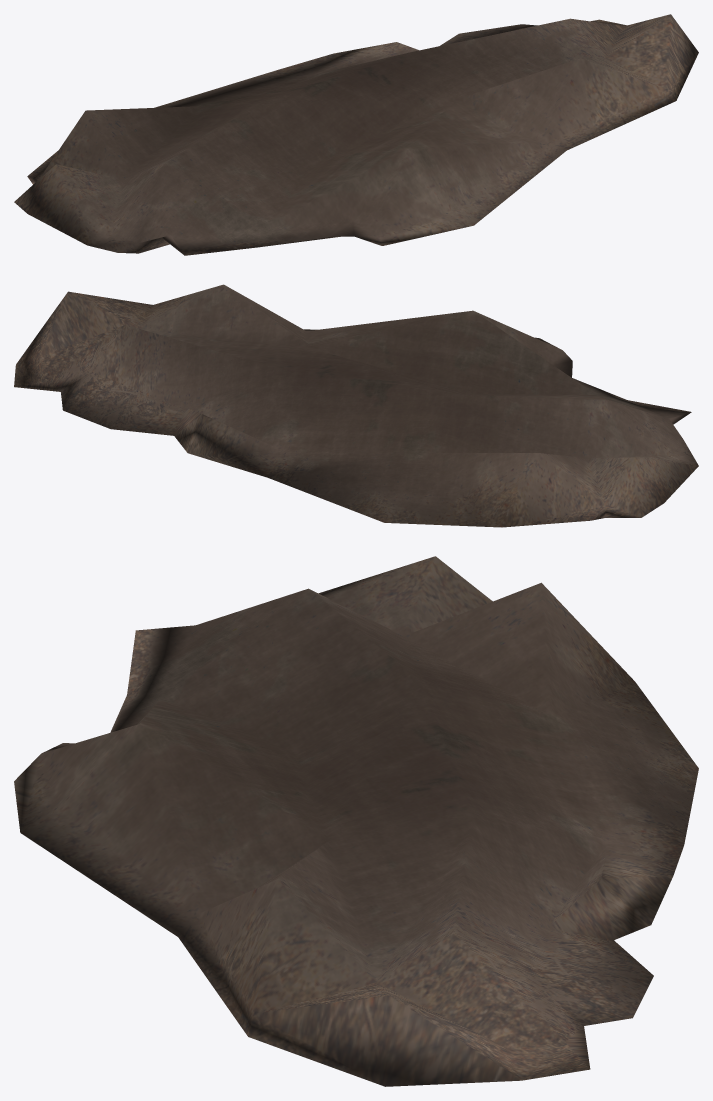
The model's file is DestroçosApenasChão2.fbx.
3 renders of one model, top to bottom at view 1: azimuth 30°, elevation 25°; view 2: azimuth 150°, elevation 25°; view 3: azimuth 270°, elevation 25°, orthographic. The views are drawn at different scales.
Parts seen in each view (by area): view 1: DestroçoChão6; view 2: DestroçoChão6; view 3: DestroçoChão6.
Boxes of the visible parts, x1,y1,x2,y2 form: DestroçoChão6: (14,14,698,255); DestroçoChão6: (14,284,698,527); DestroçoChão6: (14,556,698,1086).
Size of the model in its own units: 2762 by 305 by 1576.
